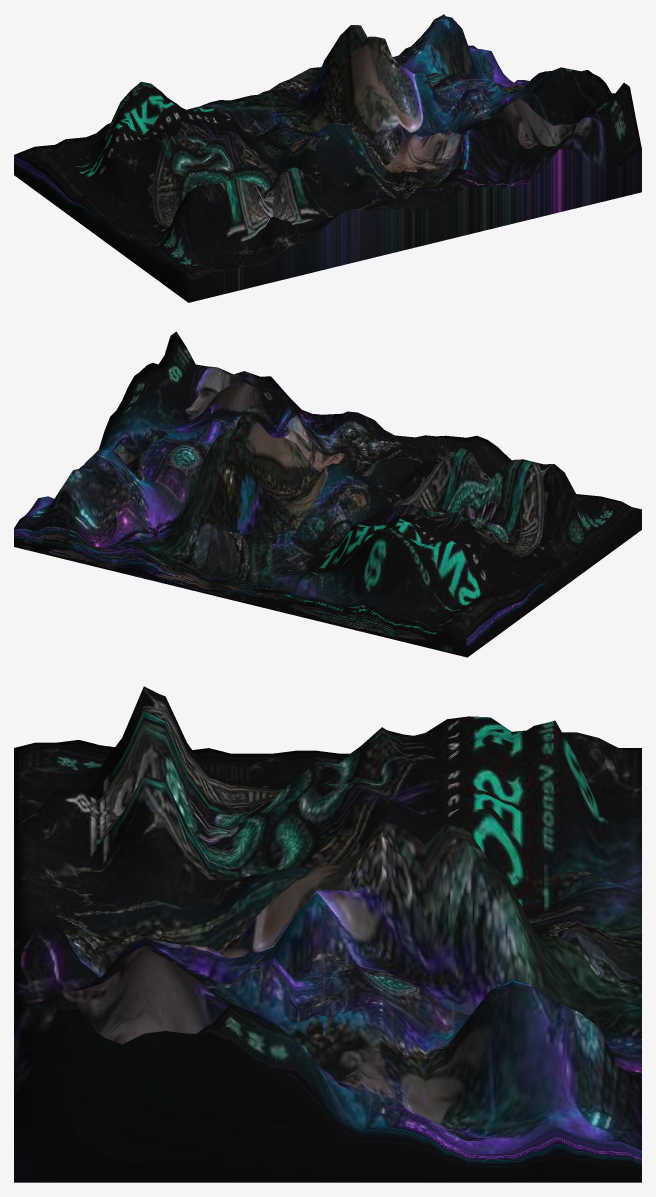
File: SECT_14_Snake_Sect.glb
3 views of the same model, one above another, from view 1: azimuth 30°, elevation 25°; view 2: azimuth 150°, elevation 25°; view 3: azimuth 270°, elevation 25° (orthographic). The views are drawn at different scales.
Visible parts, largest first — view 1: SECT_14_Snake_Sect; view 2: SECT_14_Snake_Sect; view 3: SECT_14_Snake_Sect.
Boxes of the visible parts, x1,y1,x2,y2 form: SECT_14_Snake_Sect: (14,14,641,302); SECT_14_Snake_Sect: (14,331,641,657); SECT_14_Snake_Sect: (14,686,641,1182).
Size of the model in its own units: 2 by 0.51 by 1.33.
Materials: 1 (1 with a texture image).
